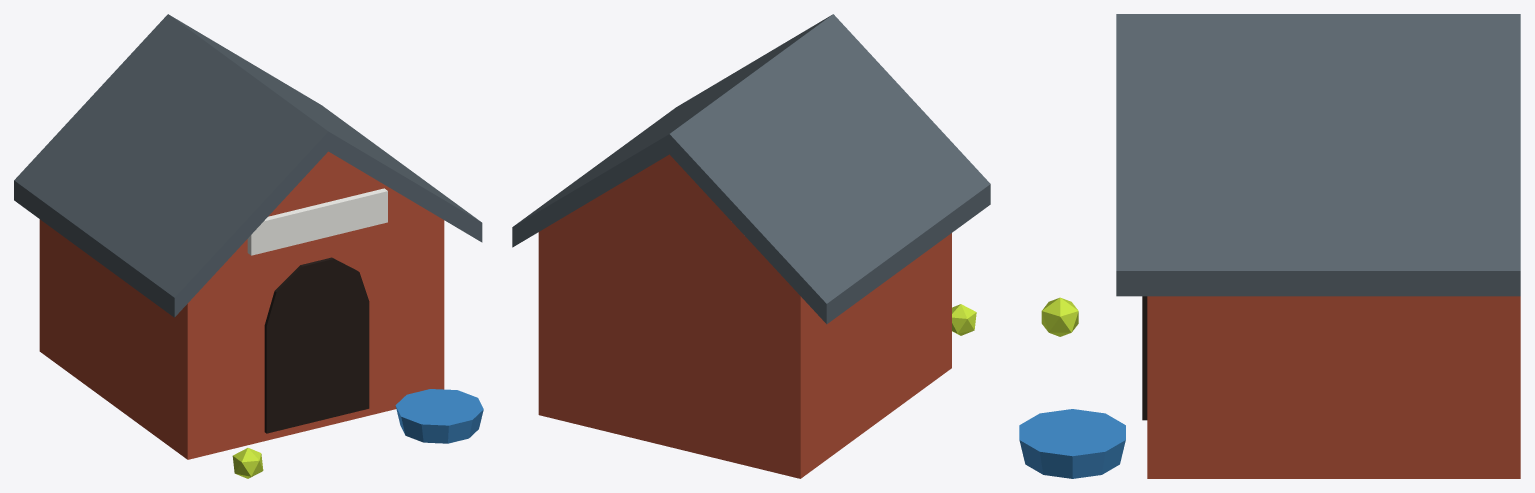
Rendered from dog-house.glb.
3 views of the same model, side by side, from view 1: azimuth 30°, elevation 25°; view 2: azimuth 150°, elevation 25°; view 3: azimuth 270°, elevation 25° (orthographic). The views are drawn at different scales.
Visible parts, largest first — view 1: DogHouse_Roof, DogHouse_Walls, DogHouse_Dark, DogHouse_Trim, DogHouse_Bowl, DogHouse_Ball; view 2: DogHouse_Walls, DogHouse_Roof, DogHouse_Ball; view 3: DogHouse_Roof, DogHouse_Walls, DogHouse_Bowl, DogHouse_Ball, DogHouse_Dark.
Part boxes in pixels (x1,y1,x2,y2): DogHouse_Roof: [14, 14, 482, 317]; DogHouse_Walls: [39, 151, 444, 459]; DogHouse_Dark: [264, 257, 369, 433]; DogHouse_Trim: [247, 188, 387, 255]; DogHouse_Bowl: [395, 389, 483, 443]; DogHouse_Ball: [232, 448, 263, 478]; DogHouse_Walls: [538, 154, 951, 478]; DogHouse_Roof: [512, 14, 990, 324]; DogHouse_Ball: [952, 304, 976, 335]; DogHouse_Roof: [1116, 14, 1520, 296]; DogHouse_Walls: [1147, 296, 1520, 478]; DogHouse_Bowl: [1019, 409, 1125, 478]; DogHouse_Ball: [1041, 297, 1078, 336]; DogHouse_Dark: [1142, 296, 1147, 420].
Size of the model in its own units: 7.2 by 6.85 by 8.06.
